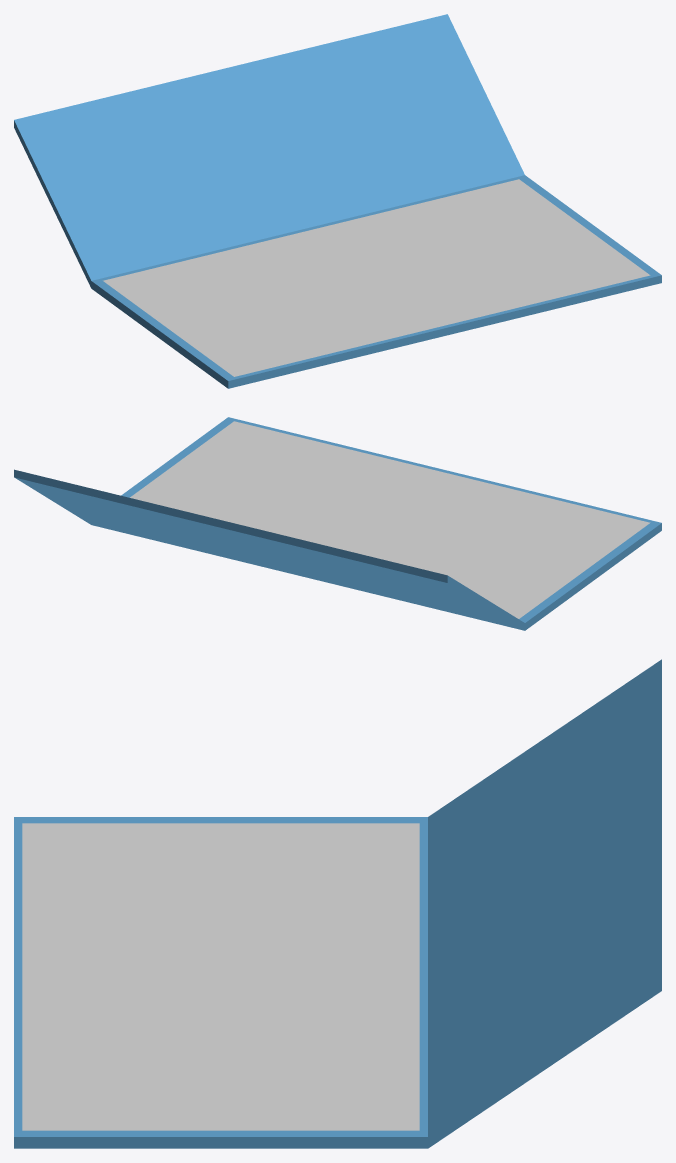
Rendered from doorway.fbx.
3 renders of one model, top to bottom at view 1: azimuth 30°, elevation 25°; view 2: azimuth 150°, elevation 25°; view 3: azimuth 270°, elevation 25°, orthographic. The views are drawn at different scales.
Visible parts, largest first — view 1: Cube; view 2: Cube; view 3: Cube.
Boxes of the visible parts, x1,y1,x2,y2 form: Cube: [14, 14, 661, 388]; Cube: [14, 417, 661, 630]; Cube: [14, 659, 661, 1148].
Bounding box in the file's own units: 1259 × 311 × 1077.
